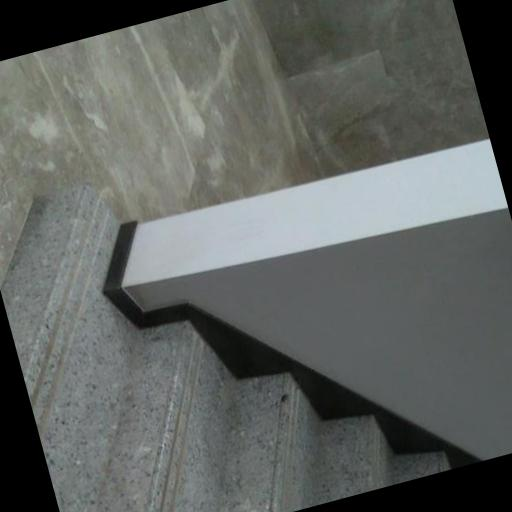stairs: (1, 187, 448, 511)
